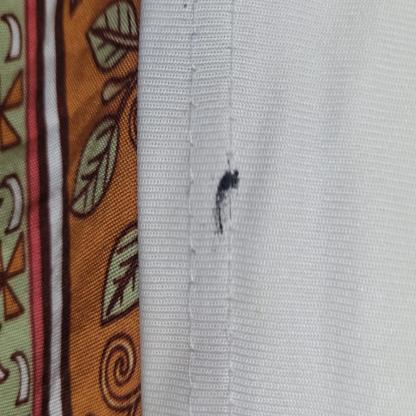spot: (207, 146, 242, 238)
